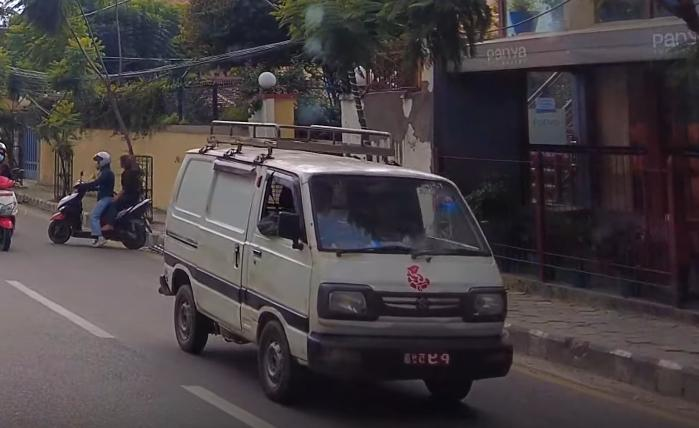scooter: (42, 174, 155, 253), (0, 168, 24, 254)
van: (159, 109, 524, 409)
